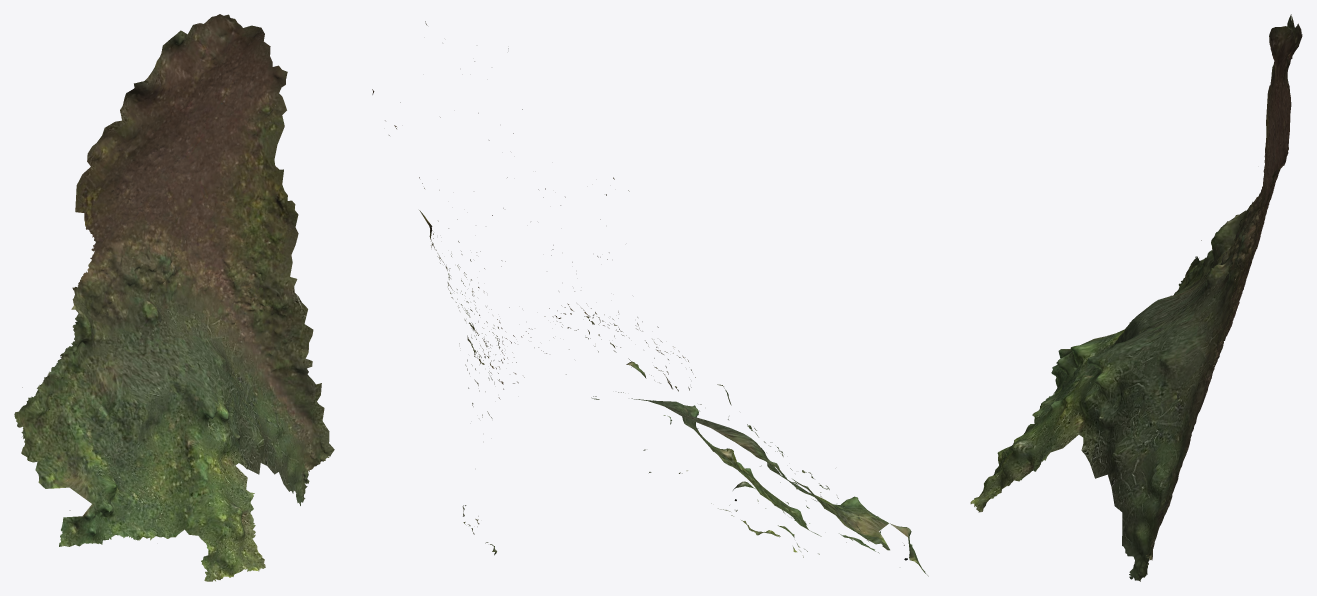
The picture shows the model from 3 angles, left to right: view 1: azimuth 30°, elevation 25°; view 2: azimuth 150°, elevation 25°; view 3: azimuth 270°, elevation 25°; orthographic projection. The views are drawn at different scales.
Size of the model in its own units: 15.67 by 21.04 by 11.78.
1 material, 1 textured.
